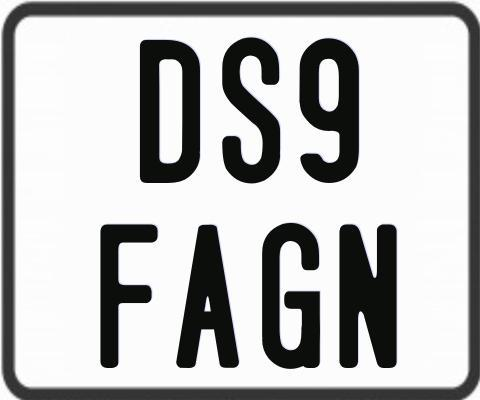9: (297, 38, 361, 186)
A: (175, 225, 243, 368)
D: (139, 37, 205, 184)
F: (98, 224, 161, 373)
G: (261, 223, 325, 375)
N: (337, 224, 400, 372)
S: (221, 37, 279, 183)
